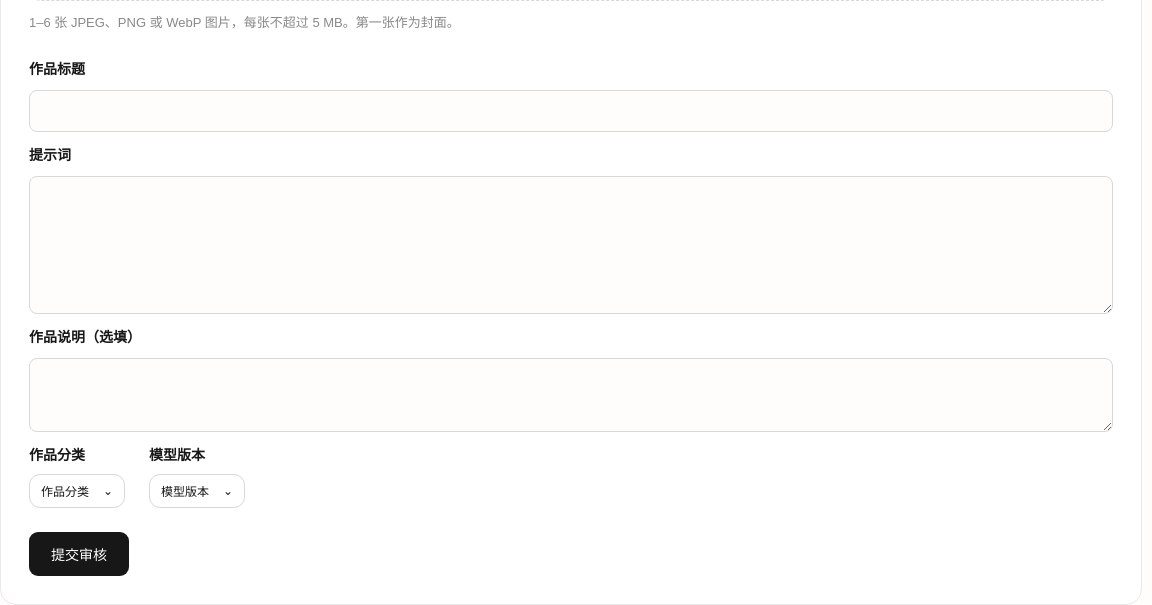
allows a zero-inventory new category but excludes all legacy categories
(page scrolled)
Click the dropdown labelled "作品分类" at (77, 491), box [29,474,125,508]
(page scrolled)
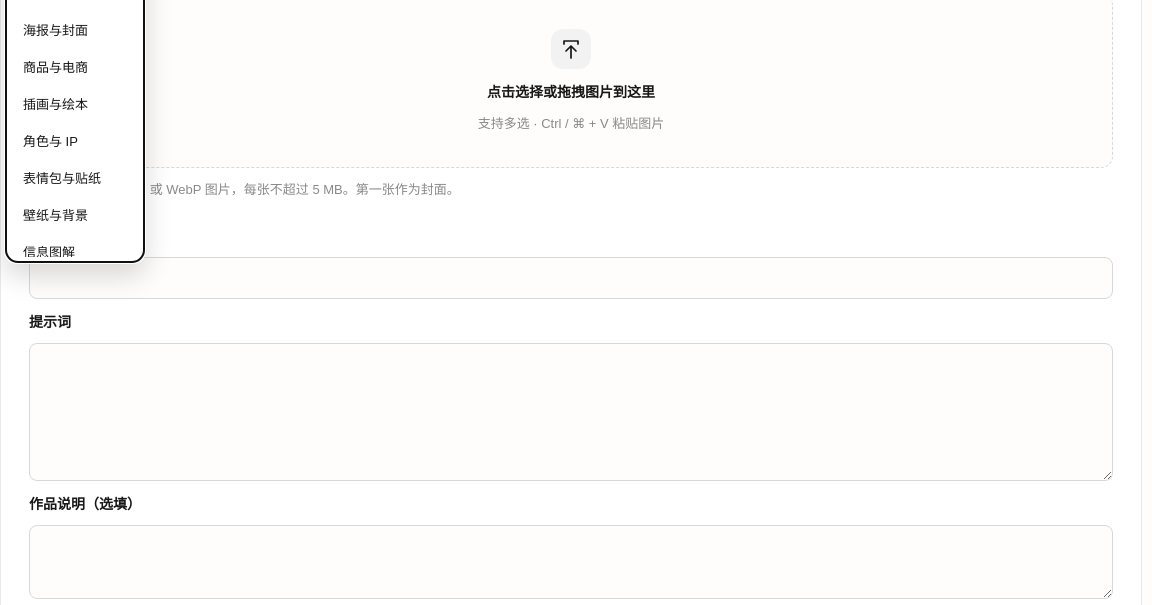
Click the option "商品与电商" at (56, 68), box [23,60,88,75]
(page scrolled)
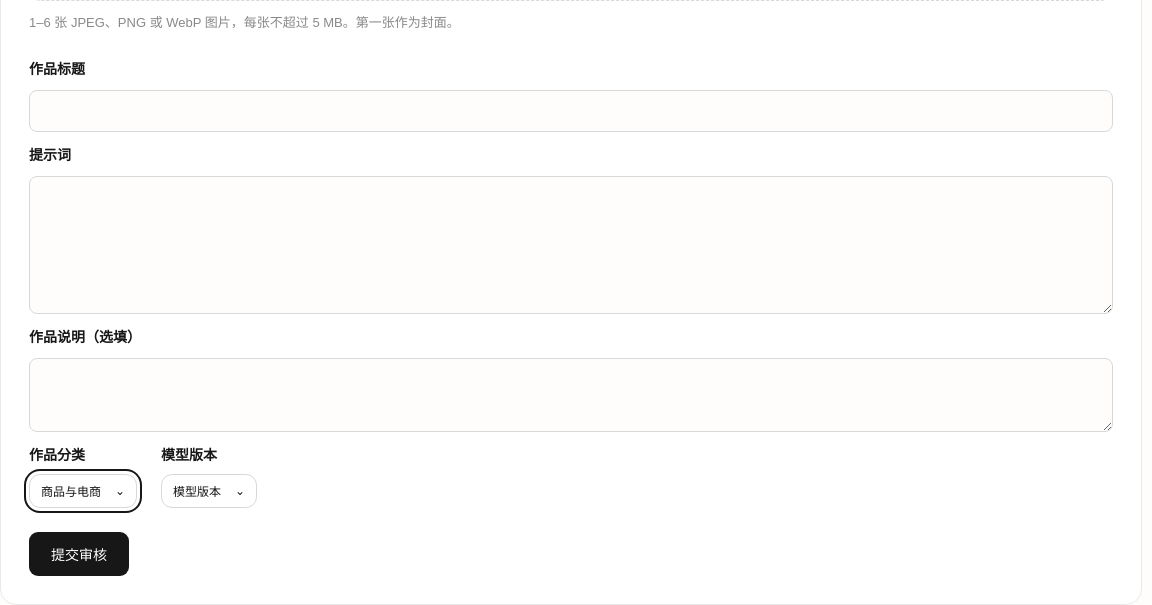
Expected: the dropdown named "作品分类" shows "商品与电商", [29,474,137,508]
